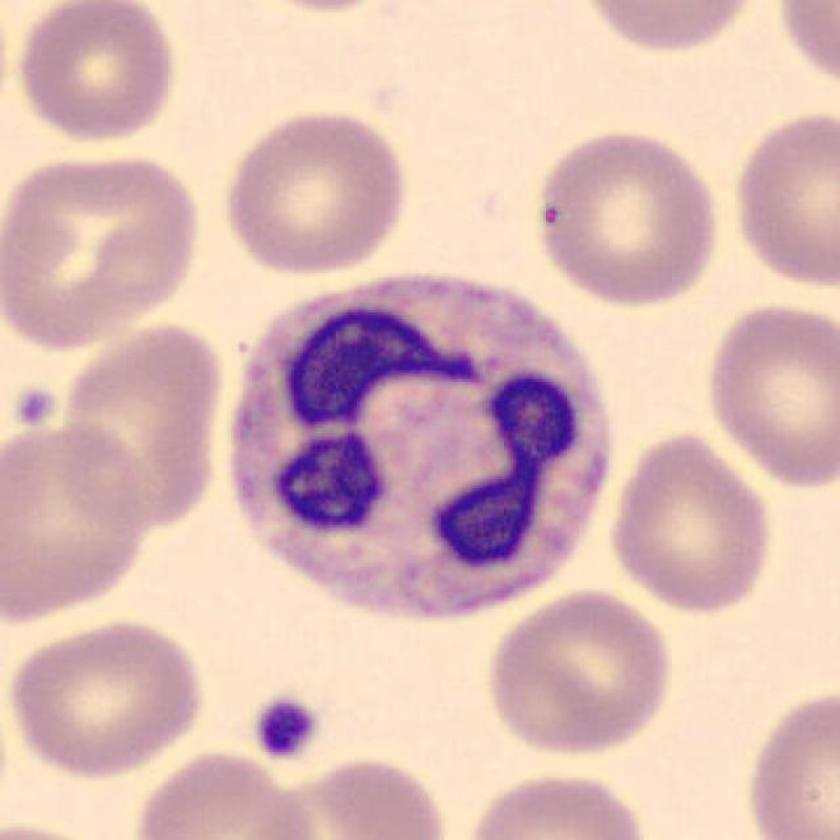neutrophil: (232, 274, 607, 611)
